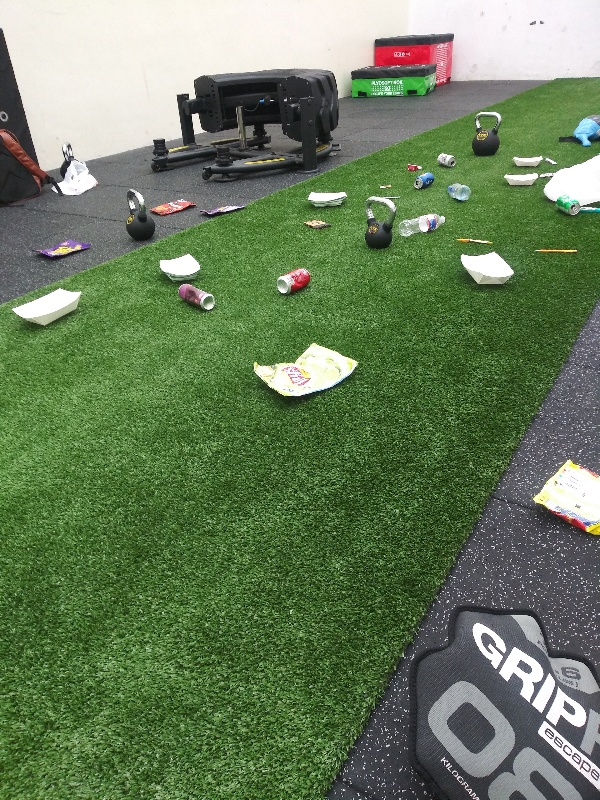bag: (526, 457, 600, 544), (249, 339, 359, 397), (29, 236, 91, 259), (150, 196, 196, 216), (201, 202, 247, 219)
bottle: (396, 209, 449, 240), (443, 180, 473, 205)
can: (272, 265, 315, 298), (177, 279, 215, 312), (553, 194, 584, 220), (409, 171, 439, 190), (431, 149, 457, 169)
plate: (6, 286, 89, 329), (454, 249, 518, 292), (149, 254, 206, 282), (304, 189, 351, 210), (497, 169, 538, 190), (509, 154, 546, 168)
